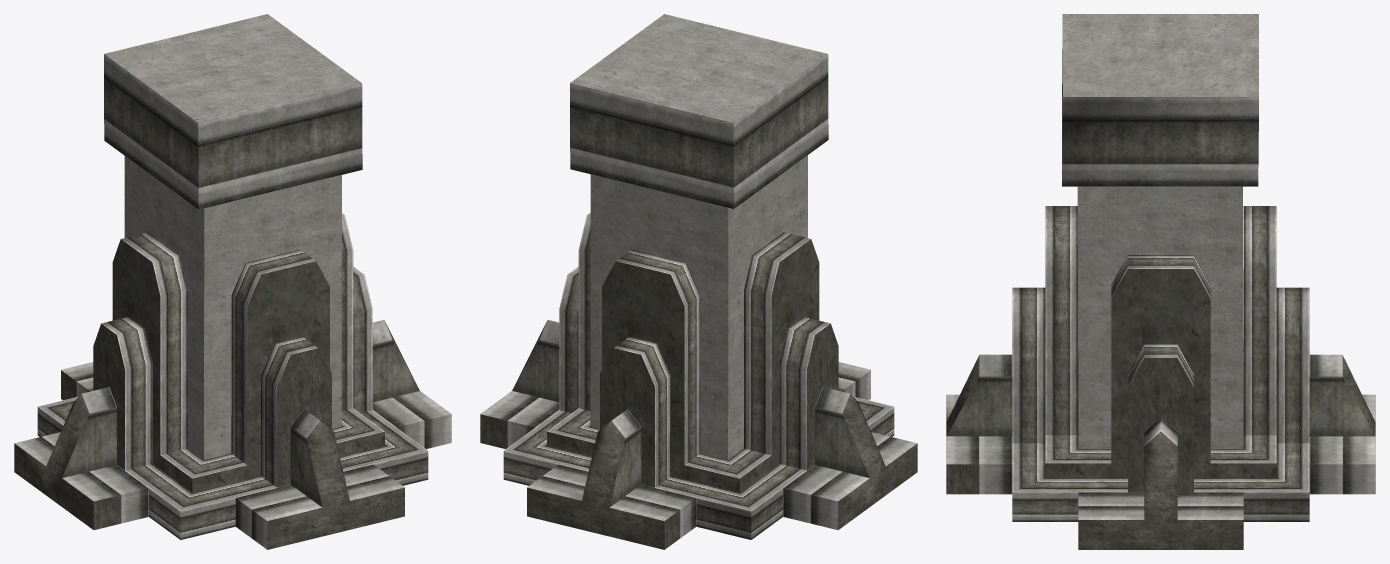
Rendered from DWARF_PALACE_MAINHALL_COLUMN_DEBREE03.fbx.
3 views of the same model, side by side, from view 1: azimuth 30°, elevation 25°; view 2: azimuth 150°, elevation 25°; view 3: azimuth 270°, elevation 25° (orthographic). The views are drawn at different scales.
Parts seen in each view (by area): view 1: DWARF_PALACE_MAINHALL_COLUMN_DEBREE03; view 2: DWARF_PALACE_MAINHALL_COLUMN_DEBREE03; view 3: DWARF_PALACE_MAINHALL_COLUMN_DEBREE03.
Part boxes in pixels (x1,y1,x2,y2): DWARF_PALACE_MAINHALL_COLUMN_DEBREE03: [14, 14, 451, 549]; DWARF_PALACE_MAINHALL_COLUMN_DEBREE03: [480, 14, 917, 549]; DWARF_PALACE_MAINHALL_COLUMN_DEBREE03: [946, 14, 1375, 549].
Size of the model in its own units: 52000 by 54000 by 52000.
5 materials, 5 textured.
